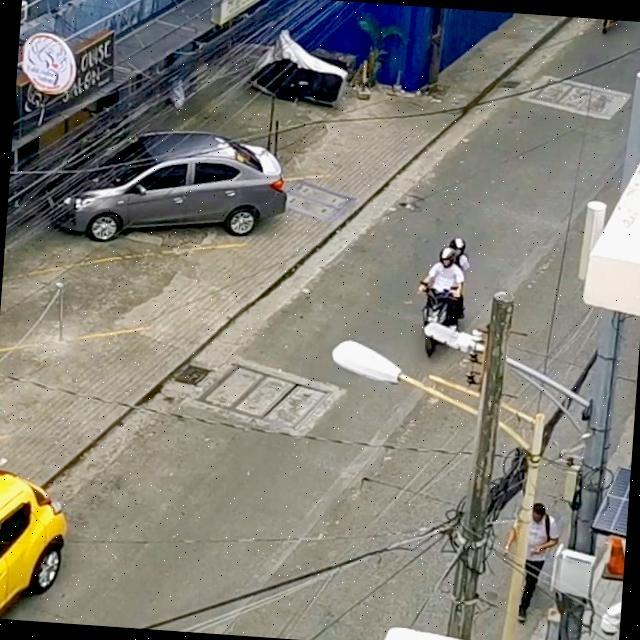Bike: (561, 16, 640, 64)
